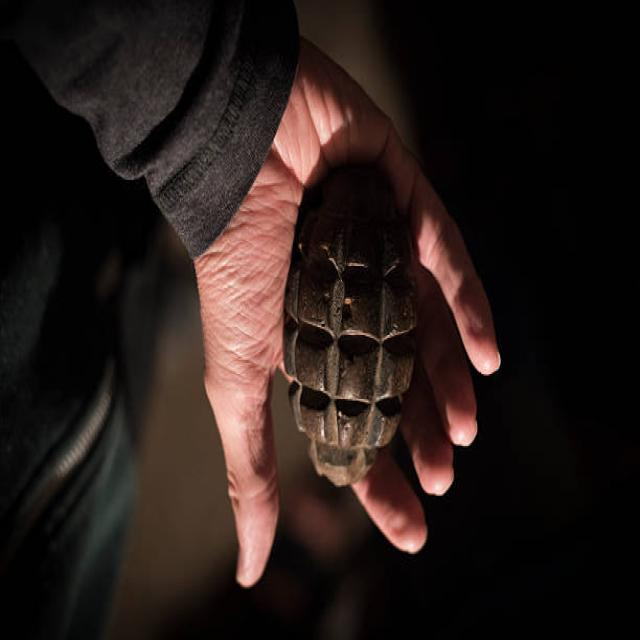grenade: (280, 162, 427, 497)
